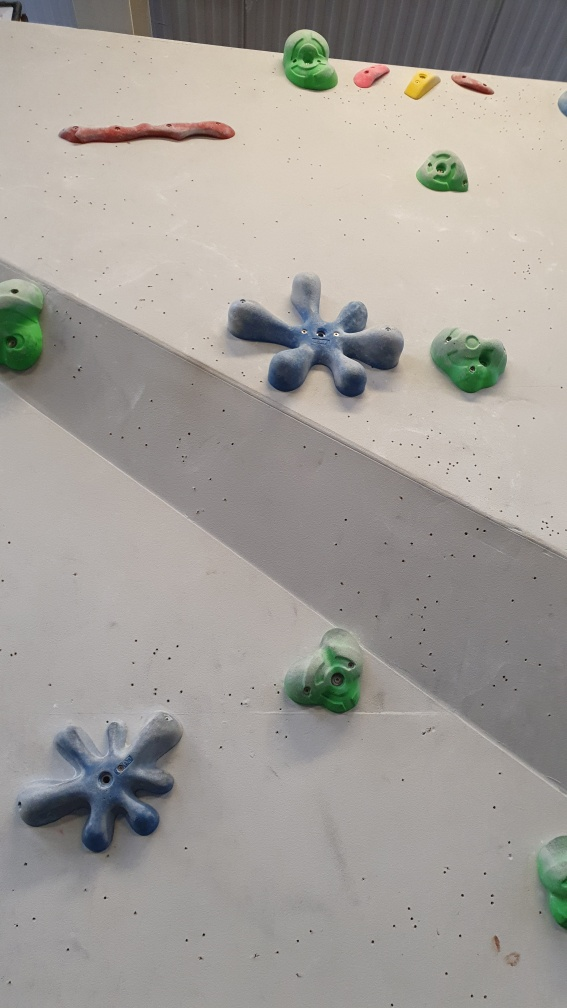Crimp: (450, 70, 495, 96), (354, 64, 393, 92)
Jug: (284, 628, 366, 718), (427, 323, 512, 396), (279, 24, 342, 97), (414, 147, 474, 198)
Octopus Pinch: (17, 705, 184, 854), (223, 269, 410, 401)
Pinch: (60, 116, 237, 143), (401, 67, 442, 102)
